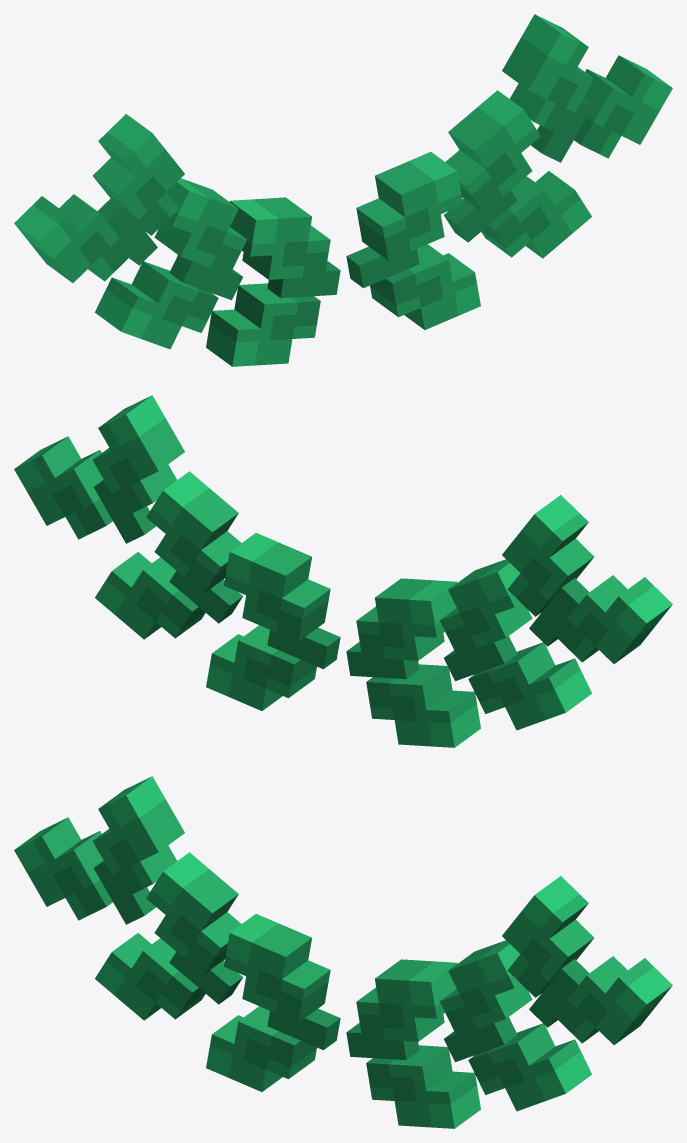
File: footer_laurels_3.gltf
3 renders of one model, top to bottom at view 1: azimuth 30°, elevation 25°; view 2: azimuth 150°, elevation 25°; view 3: azimuth 330°, elevation 25°, orthographic.
Visible parts, largest first — view 1: LaurelsR1-Local, LaurelsL1-Local, LaurelsL3-Local, LaurelsR2-Local, LaurelsR3-Local, LaurelsL2-Local; view 2: LaurelsR1-Local, LaurelsL1-Local, LaurelsL3-Local, LaurelsR2-Local, LaurelsR3-Local, LaurelsL2-Local; view 3: LaurelsL1-Local, LaurelsR1-Local, LaurelsR3-Local, LaurelsL2-Local, LaurelsL3-Local, LaurelsR2-Local.
Boxes of the visible parts, bbox=[...] form: LaurelsR1-Local: bbox=[346, 152, 480, 329]; LaurelsL1-Local: bbox=[206, 197, 340, 366]; LaurelsL3-Local: bbox=[14, 114, 184, 282]; LaurelsR2-Local: bbox=[444, 90, 591, 258]; LaurelsR3-Local: bbox=[502, 14, 672, 162]; LaurelsL2-Local: bbox=[95, 178, 246, 349]; LaurelsR1-Local: bbox=[206, 533, 340, 710]; LaurelsL1-Local: bbox=[346, 578, 480, 747]; LaurelsL3-Local: bbox=[502, 495, 672, 663]; LaurelsR2-Local: bbox=[95, 471, 242, 639]; LaurelsR3-Local: bbox=[14, 395, 184, 543]; LaurelsL2-Local: bbox=[440, 559, 591, 730]; LaurelsL1-Local: bbox=[206, 914, 340, 1091]; LaurelsR1-Local: bbox=[346, 959, 480, 1128]; LaurelsR3-Local: bbox=[502, 876, 672, 1044]; LaurelsL2-Local: bbox=[95, 852, 242, 1020]; LaurelsL3-Local: bbox=[14, 776, 184, 924]; LaurelsR2-Local: bbox=[440, 940, 591, 1111].
Size of the model in its own units: 55.47 by 22.09 by 4.
6 materials, 6 textured.
